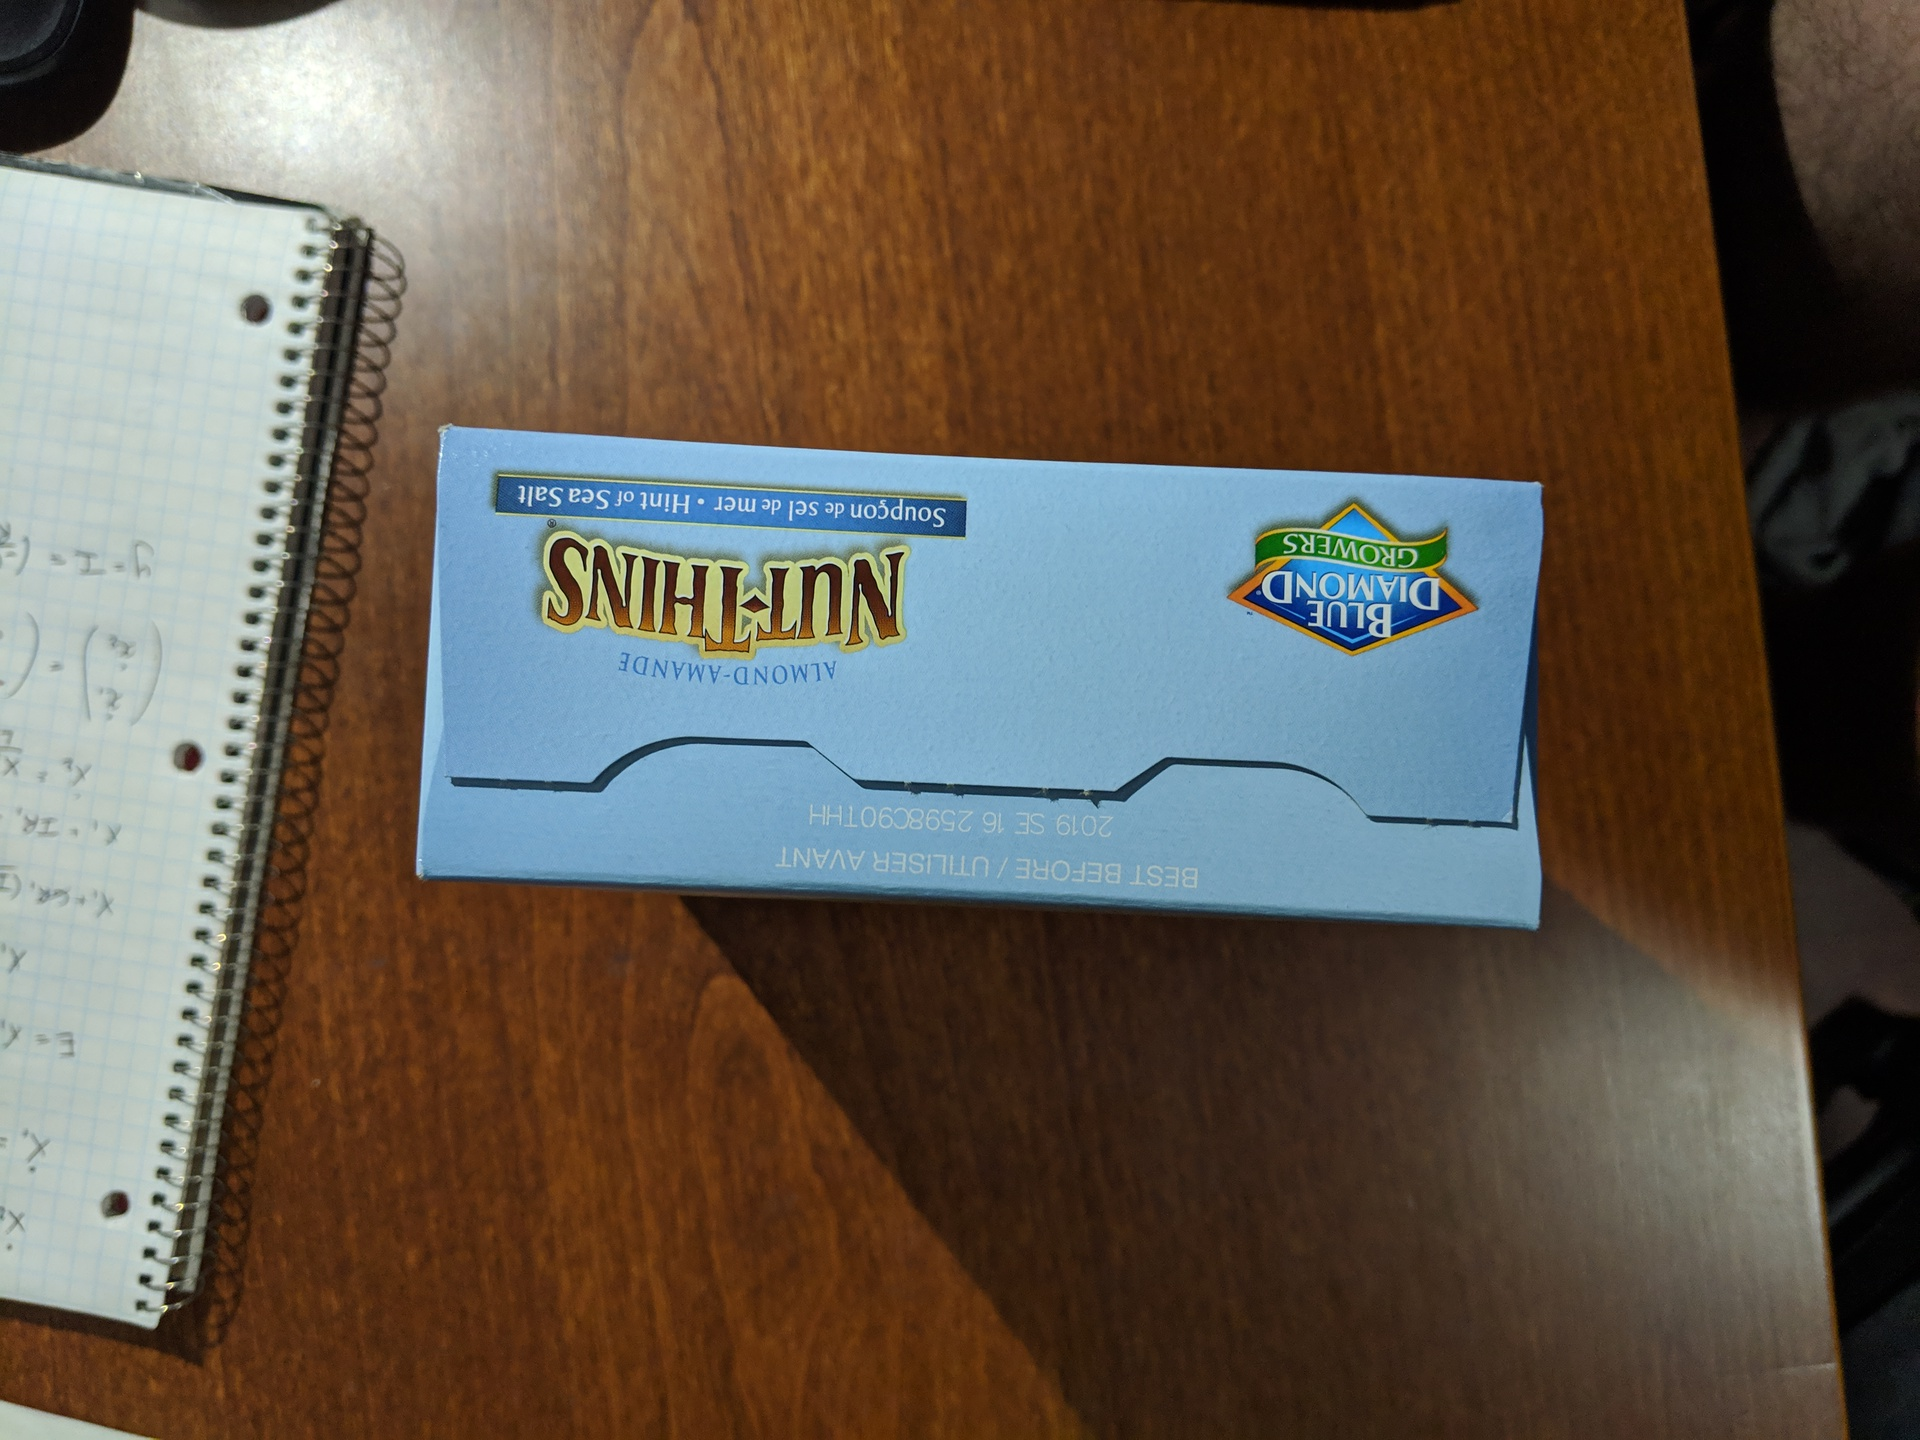blue_diamond_nut_thins_almond_seasalt: (429, 424, 1550, 933)
